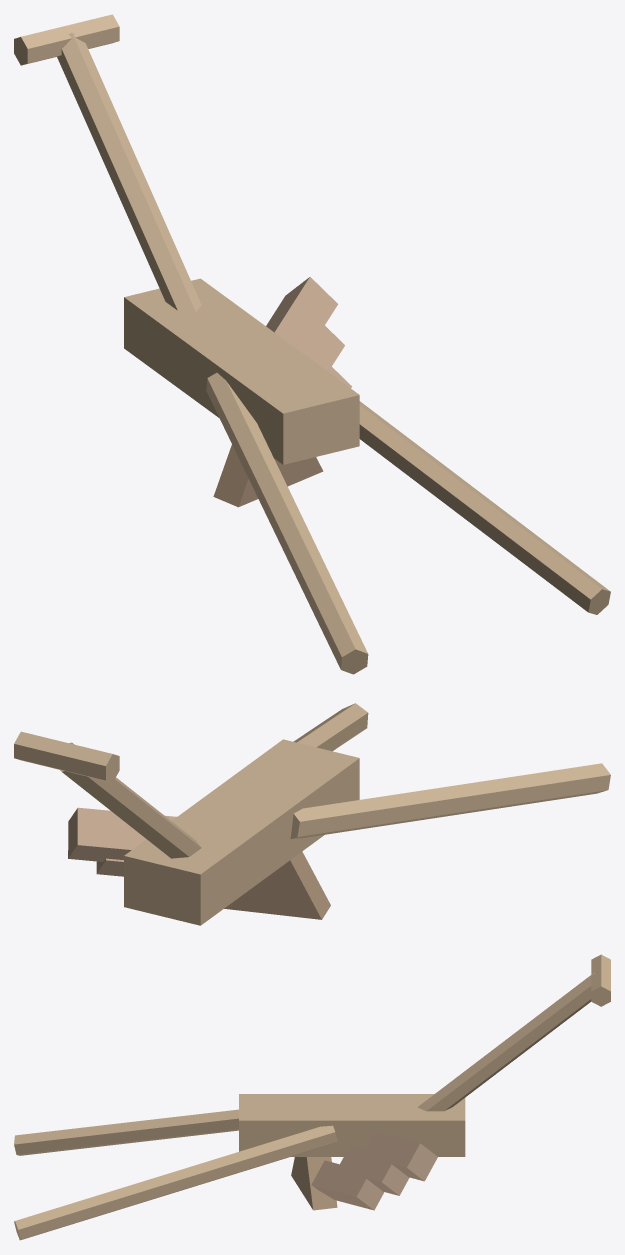
Rendered from plough.glb.
3 renders of one model, top to bottom at view 1: azimuth 30°, elevation 25°; view 2: azimuth 150°, elevation 25°; view 3: azimuth 270°, elevation 25°, orthographic. The views are drawn at different scales.
Visible parts, largest first — view 1: plough_wood, plough_plank, plough_iron; view 2: plough_wood, plough_iron, plough_plank; view 3: plough_wood, plough_plank, plough_iron.
Part boxes in pixels (x1,y1,x2,y2): plough_wood: (14, 14, 610, 674); plough_plank: (266, 277, 351, 388); plough_iron: (213, 444, 323, 507); plough_wood: (14, 703, 610, 925); plough_iron: (224, 851, 330, 919); plough_plank: (68, 807, 176, 876); plough_wood: (14, 954, 610, 1240); plough_plank: (311, 1131, 437, 1210); plough_iron: (291, 1157, 337, 1210).
Bounding box in the file's own units: 0.2933 × 0.333 × 0.7908.
